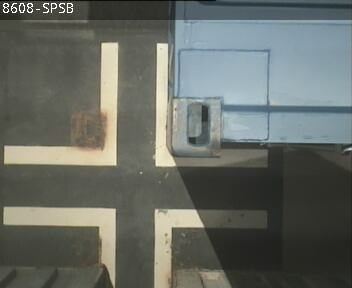groundmarker_1: (2, 43, 267, 168), (3, 206, 267, 288)
